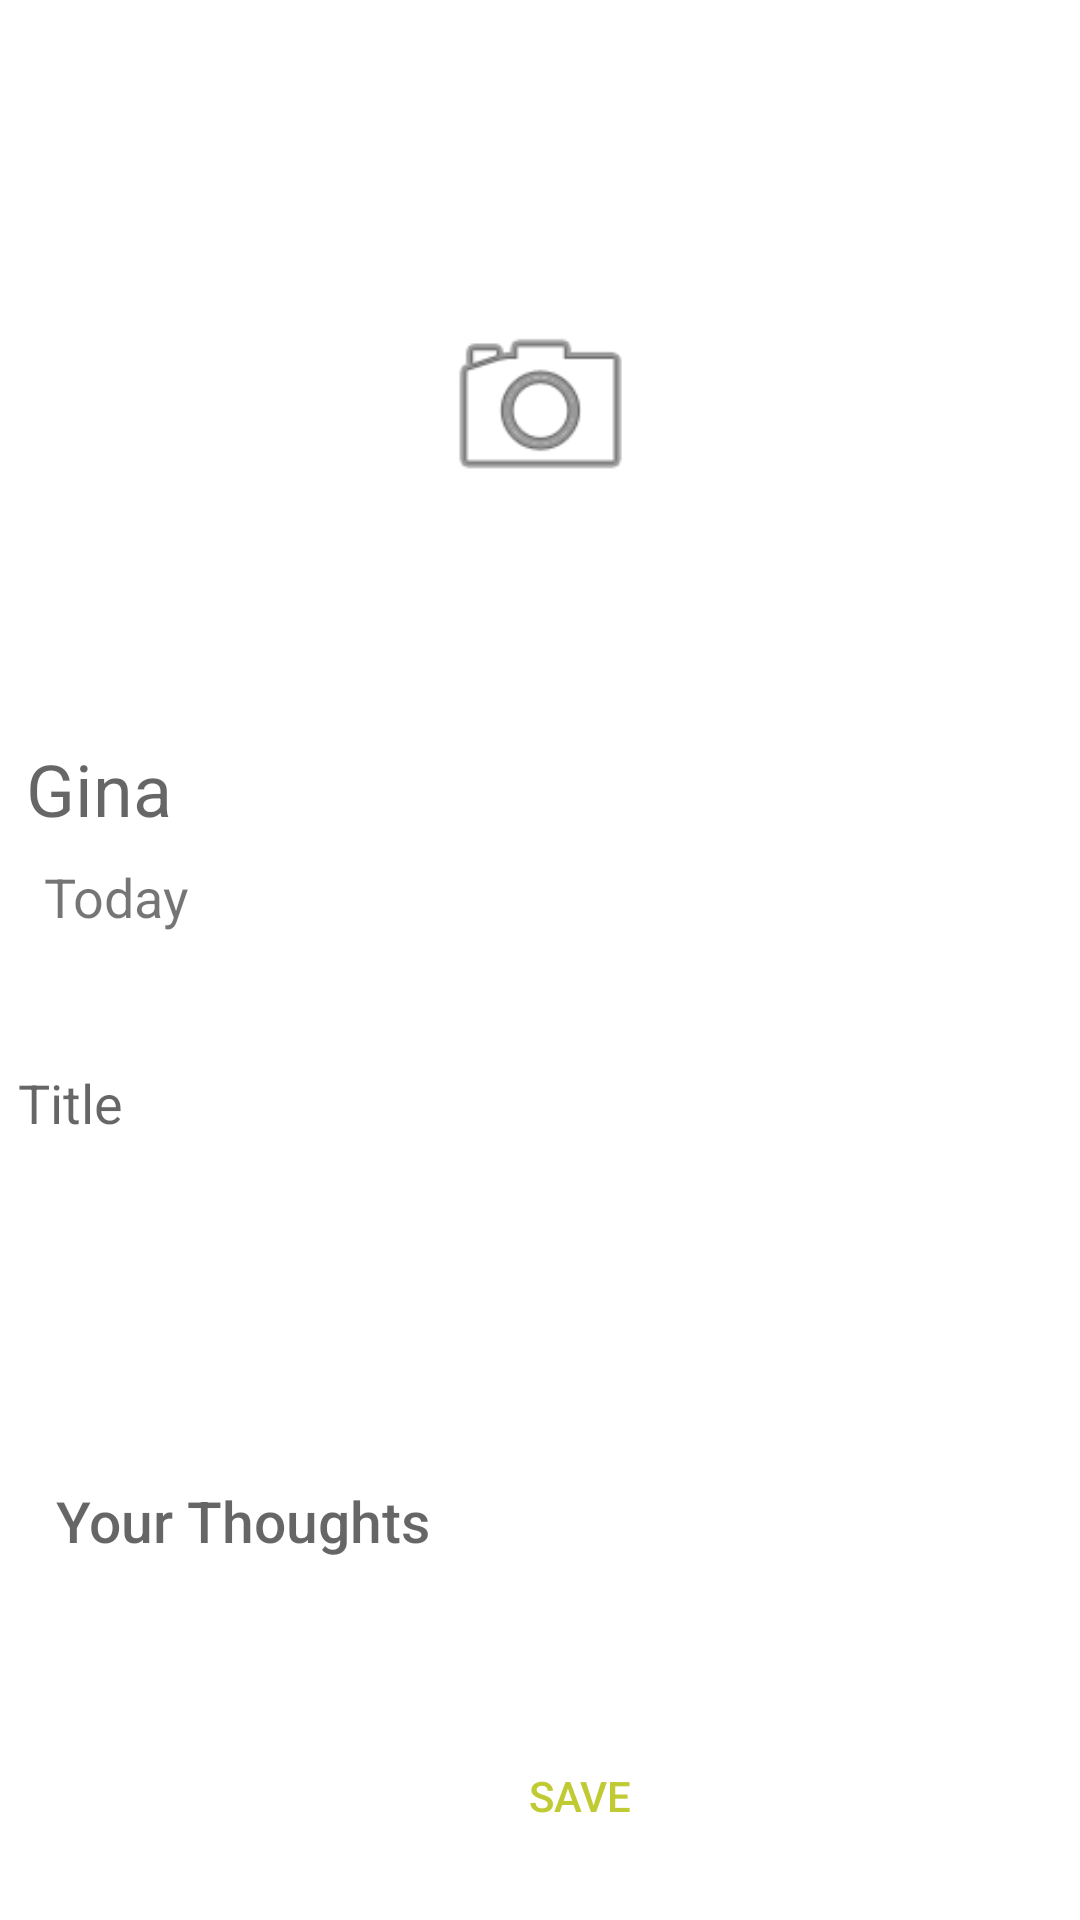

Screen size 1080×1920. Icon name, then its box in pixels as [left=x1, top=y1, right=x2, bottom=y2]:
camera: [left=459, top=339, right=622, bottom=469]
